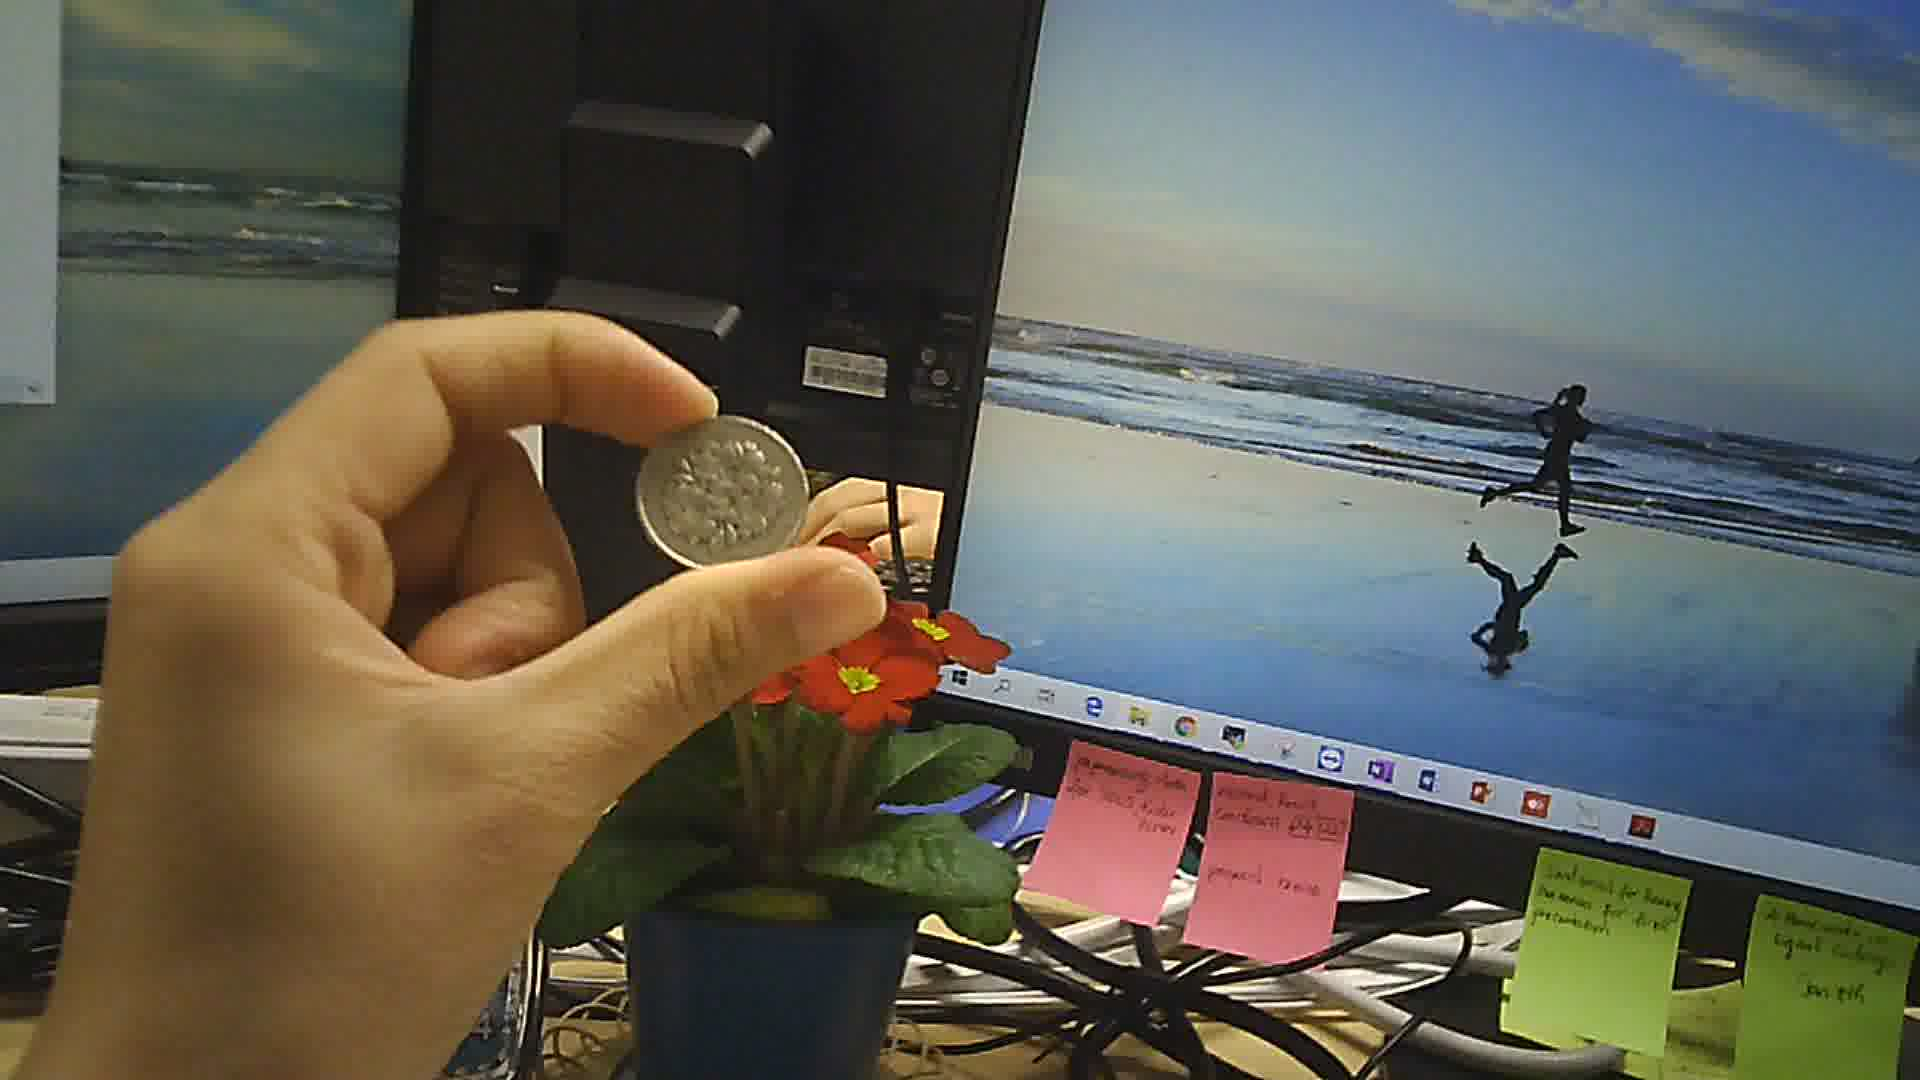100 Yen: (626, 407, 818, 571)
